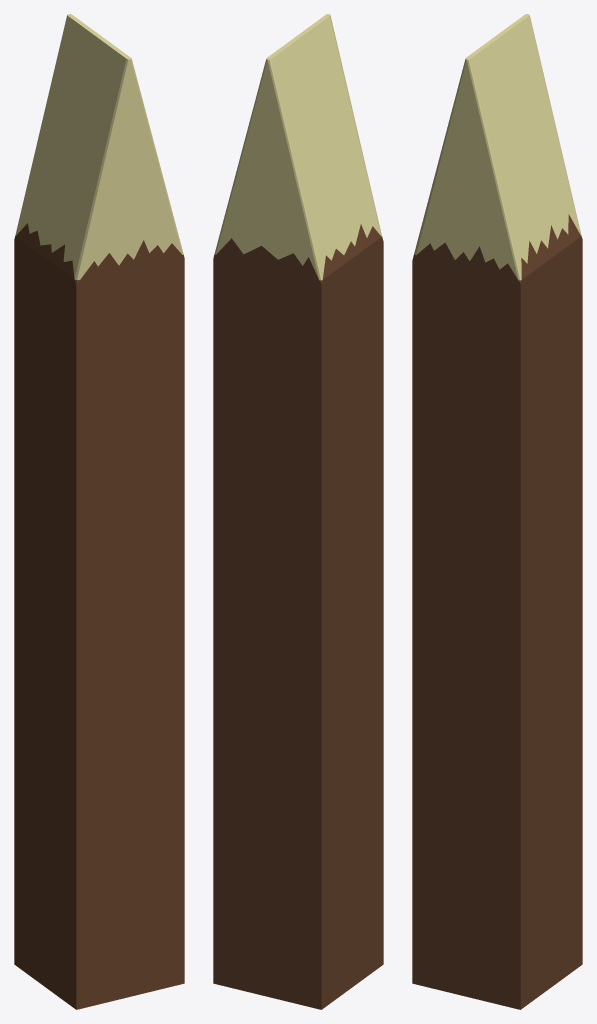
The model's file is ZaunStück.fbx.
3 views of the same model, side by side, from view 1: azimuth 30°, elevation 25°; view 2: azimuth 150°, elevation 25°; view 3: azimuth 330°, elevation 25° (orthographic).
Visible parts, largest first — view 1: Cube; view 2: Cube; view 3: Cube.
Boxes of the visible parts, x1,y1,x2,y2 form: Cube: [14, 14, 184, 1009]; Cube: [213, 14, 383, 1009]; Cube: [412, 14, 582, 1009].
Bounding box in the file's own units: 109 × 898 × 108.
